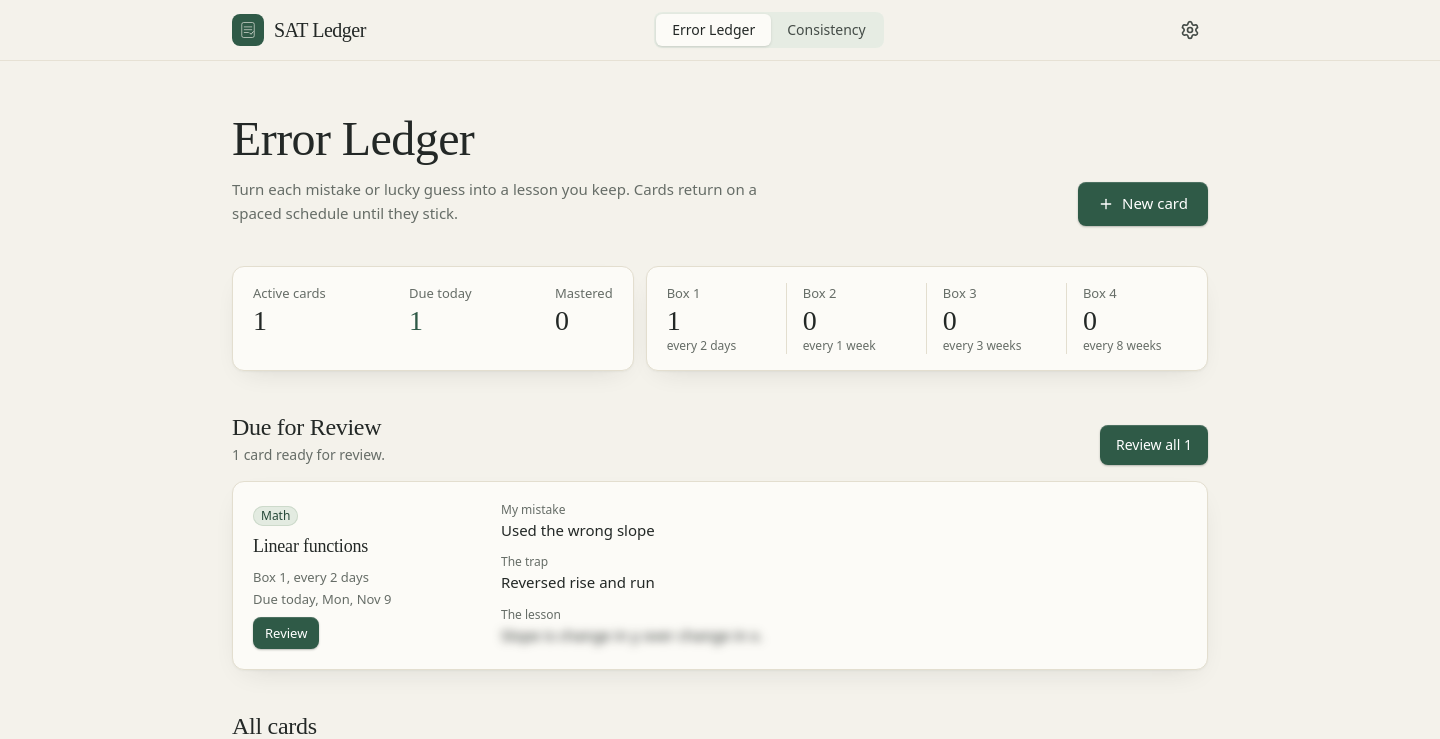
Test: Error Ledger: reviewing › surfaces due cards and keeps the lesson hidden until you reveal it and choose an outcome
This screenshot has width=1440, height=739.
Expected: the heading "Due for Review" is shown, left=232, top=411, right=385, bottom=443
Click the button with aria-label "Review Linear functions": point(286, 633) left=253, top=617, right=319, bottom=649
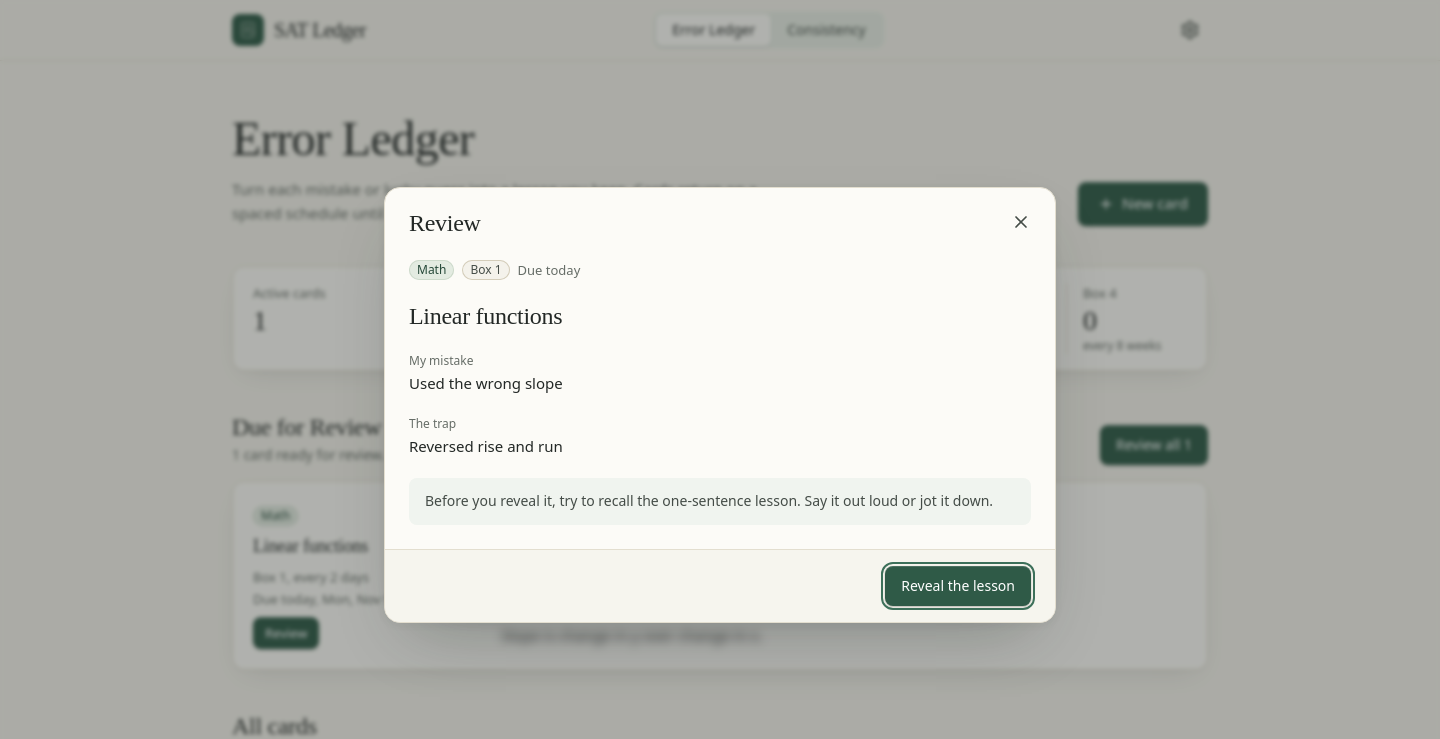
Expected: the button "i recalled it" is not shown
Click the button "Reveal the lesson": point(958, 586) left=885, top=566, right=1031, bottom=606
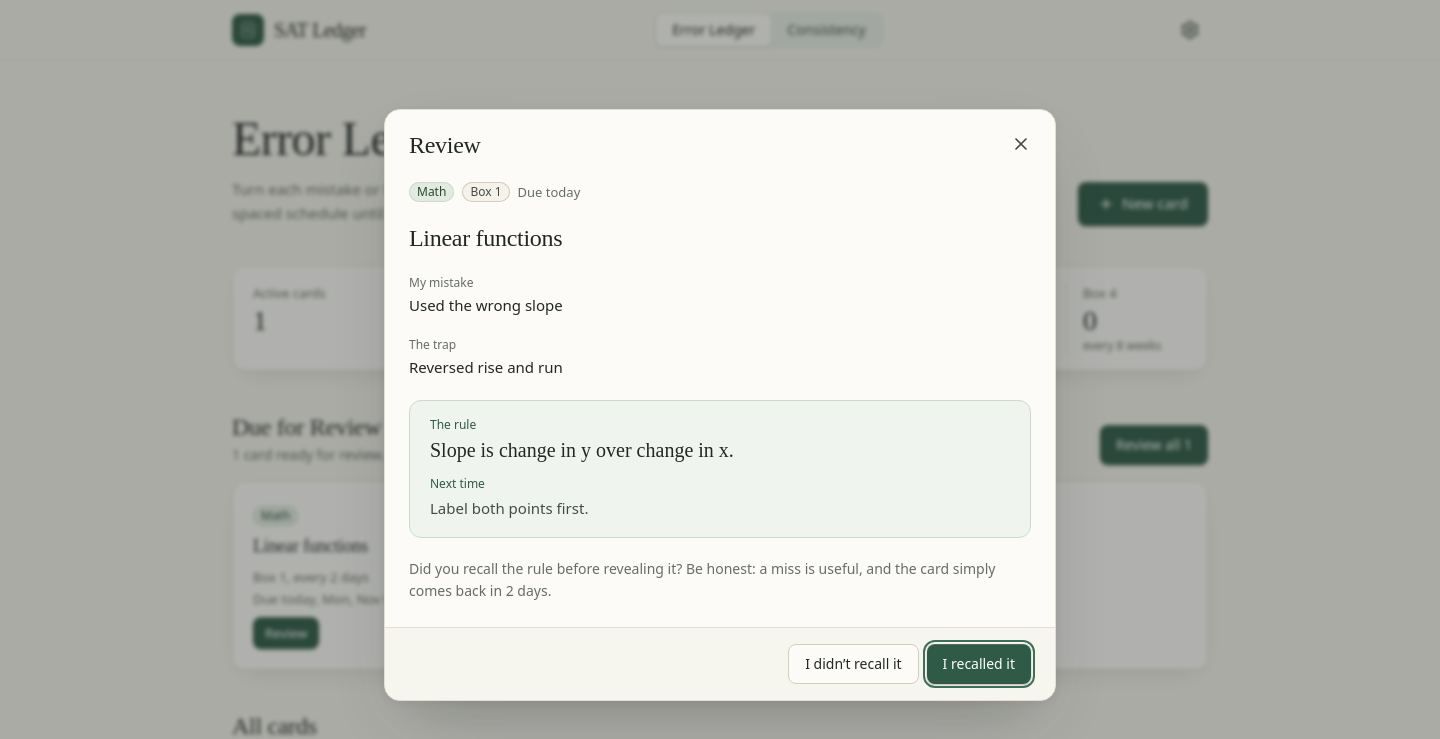
Now the text "Slope is change in y over change in x." is shown, box left=430, top=439, right=734, bottom=461
Click the button "I recalled it": point(979, 664) left=927, top=644, right=1031, bottom=684
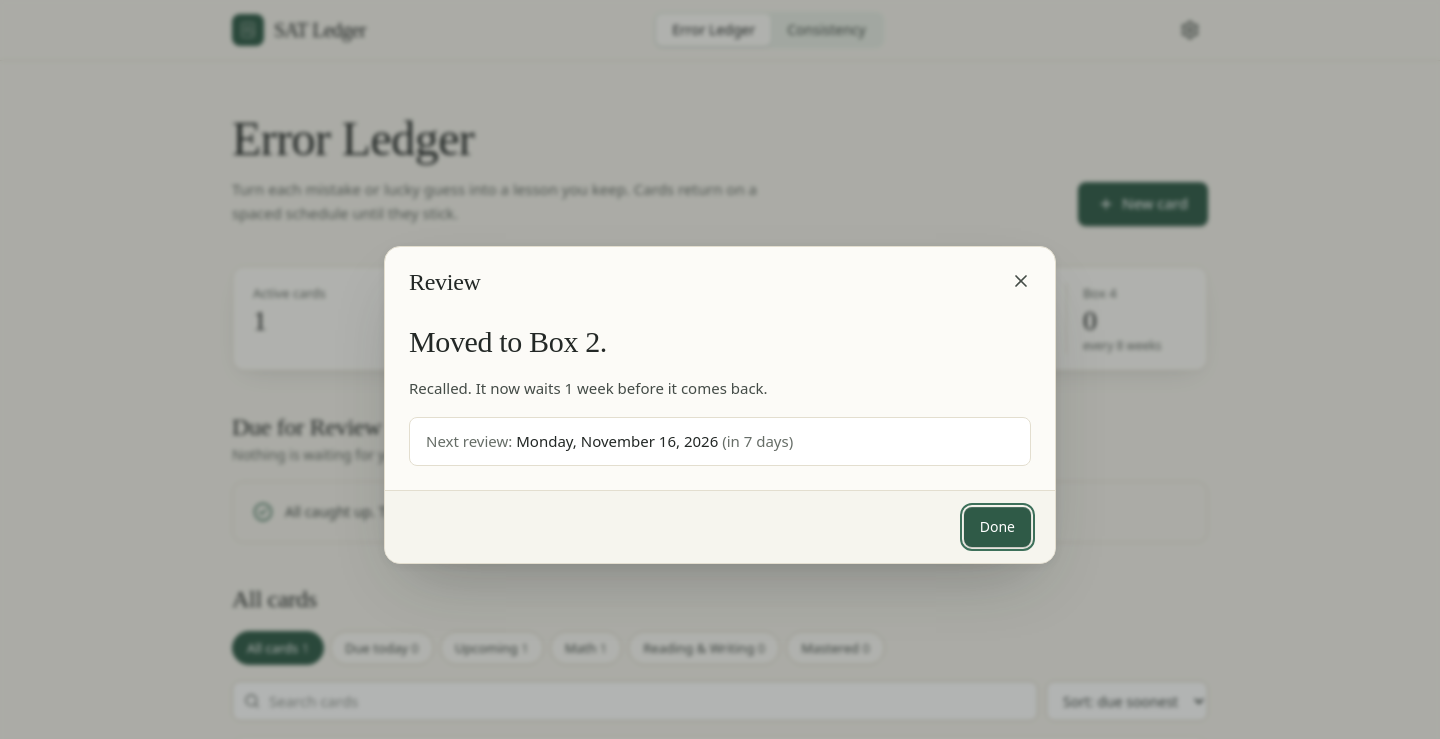
Now the heading "Moved to Box 2." is shown, box left=409, top=325, right=607, bottom=358
Click the button "Done": point(997, 527) left=964, top=507, right=1031, bottom=547
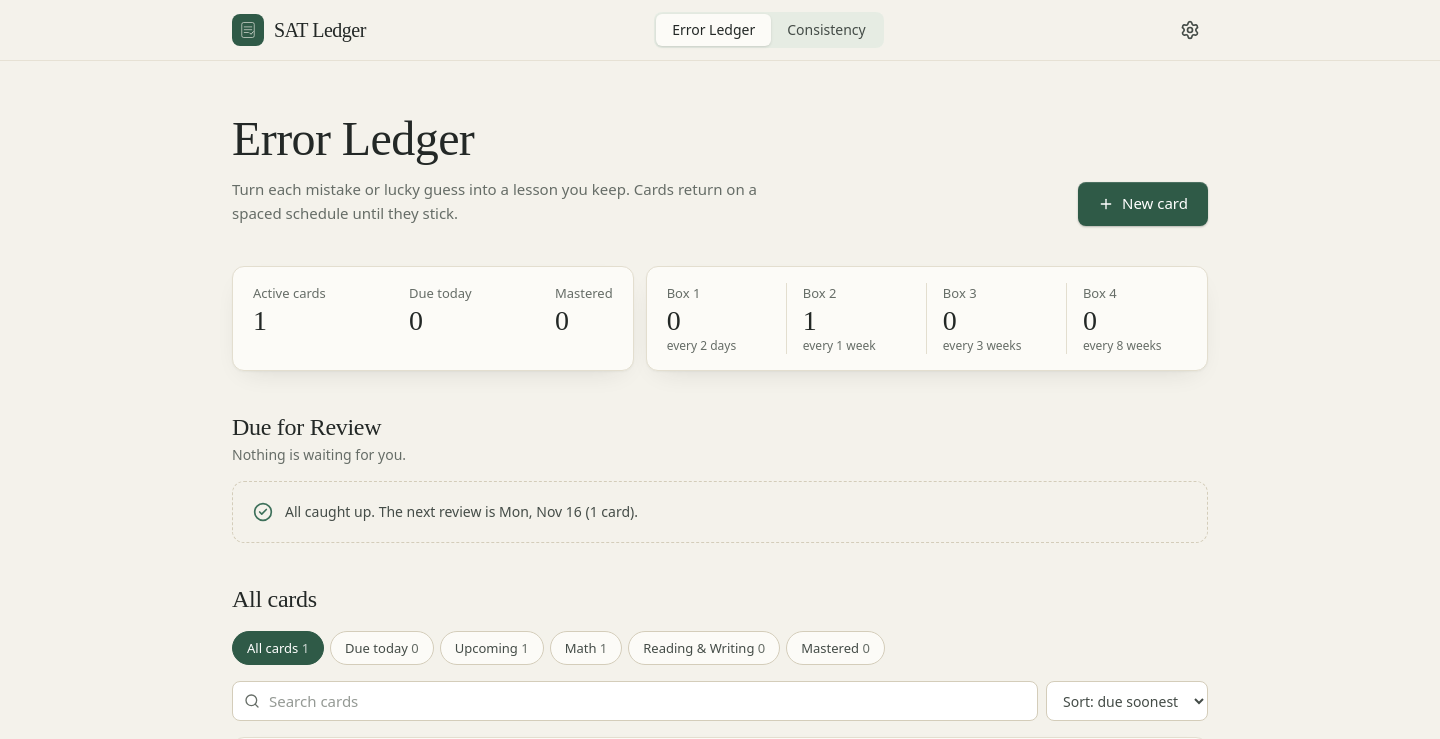
Now the dialog is gone
